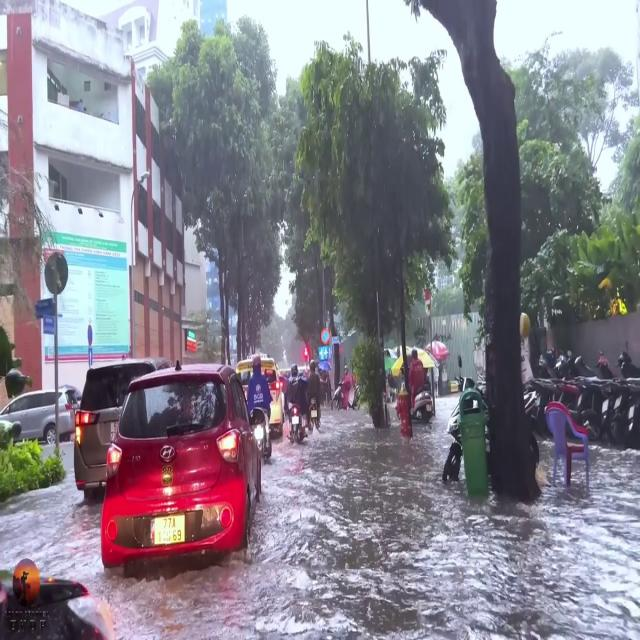bien_vang: (152, 513, 184, 543)
